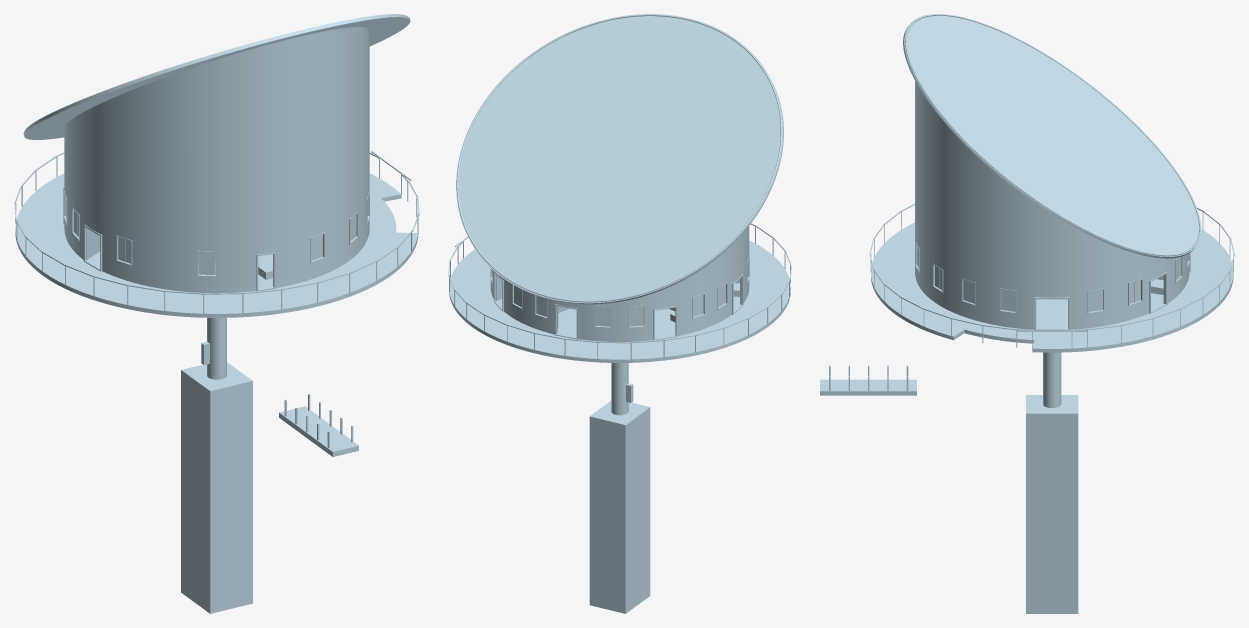
Rendered from tower_crown_3.glb.
3 renders of one model, left to right at view 1: azimuth 30°, elevation 25°; view 2: azimuth 150°, elevation 25°; view 3: azimuth 270°, elevation 25°, orthographic. The views are drawn at different scales.
Parts seen in each view (by area): view 1: Roof infill, Pod container, Slab 2, Facade 2, Solar disc, Bridge deck, Hatch column, Solar rim; view 2: Solar disc, Slab 2, Pod container, Facade 2, Solar rim, Roof infill, Hatch column; view 3: Solar disc, Roof infill, Slab 2, Pod container, Facade 2, Solar rim, Bridge deck, Hatch column.
Boxes of the visible parts, <box> form: Roof infill: <box>64,27,369,240</box>; Pod container: <box>181,362,252,613</box>; Slab 2: <box>15,173,418,317</box>; Facade 2: <box>64,178,369,293</box>; Solar disc: <box>23,14,410,139</box>; Bridge deck: <box>279,406,358,456</box>; Hatch column: <box>207,318,226,379</box>; Solar rim: <box>25,14,405,129</box>; Solar disc: <box>456,14,783,304</box>; Slab 2: <box>449,240,790,362</box>; Pod container: <box>589,401,650,613</box>; Facade 2: <box>490,246,749,341</box>; Solar rim: <box>456,14,782,302</box>; Roof infill: <box>642,226,749,296</box>; Hatch column: <box>611,363,628,415</box>; Solar disc: <box>903,14,1201,258</box>; Roof infill: <box>915,81,1164,283</box>; Slab 2: <box>871,222,1233,352</box>; Pod container: <box>1026,395,1078,613</box>; Facade 2: <box>915,229,1189,329</box>; Solar rim: <box>905,14,1200,256</box>; Bridge deck: <box>820,379,916,395</box>; Hatch column: <box>1043,352,1061,407</box>.
Size of the model in its own units: 20.1 by 34.3 by 22.87.
